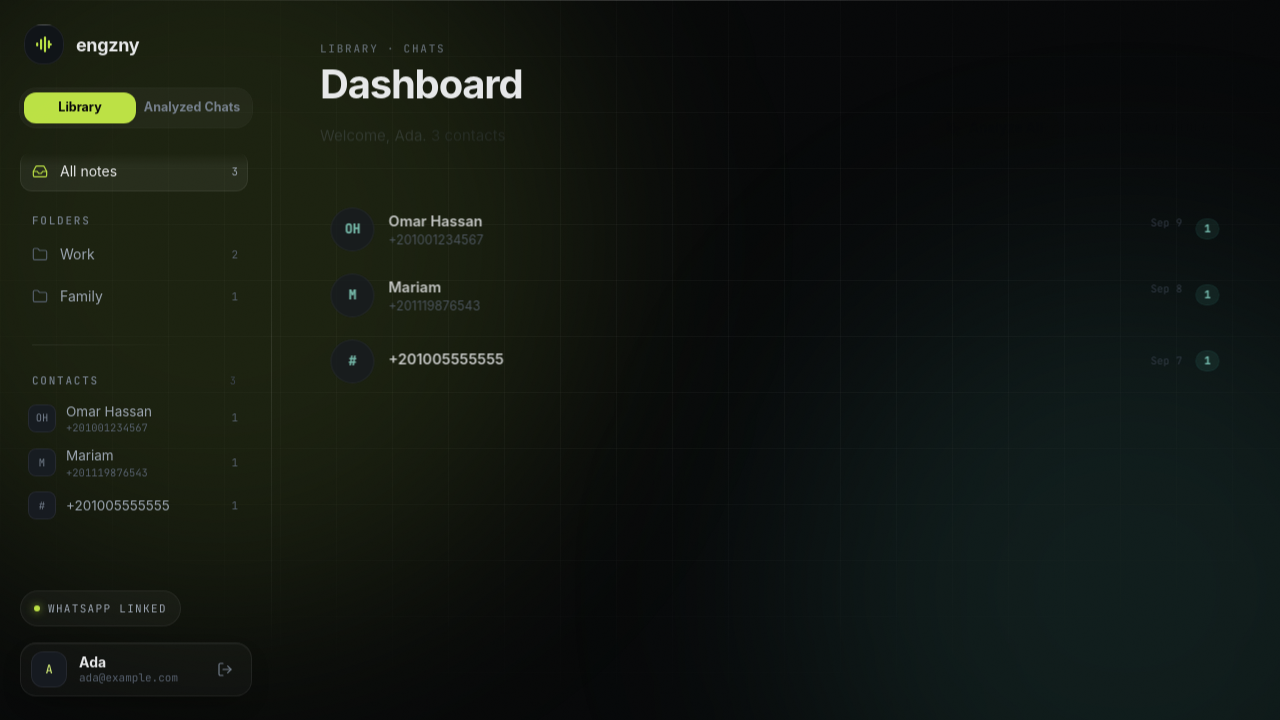
it: Dashboard › filters notes by folder via the URL search param and re-queries the API
Click the button "Family 1" at (134, 296), box top-left (20, 276), bottom-right (248, 316)
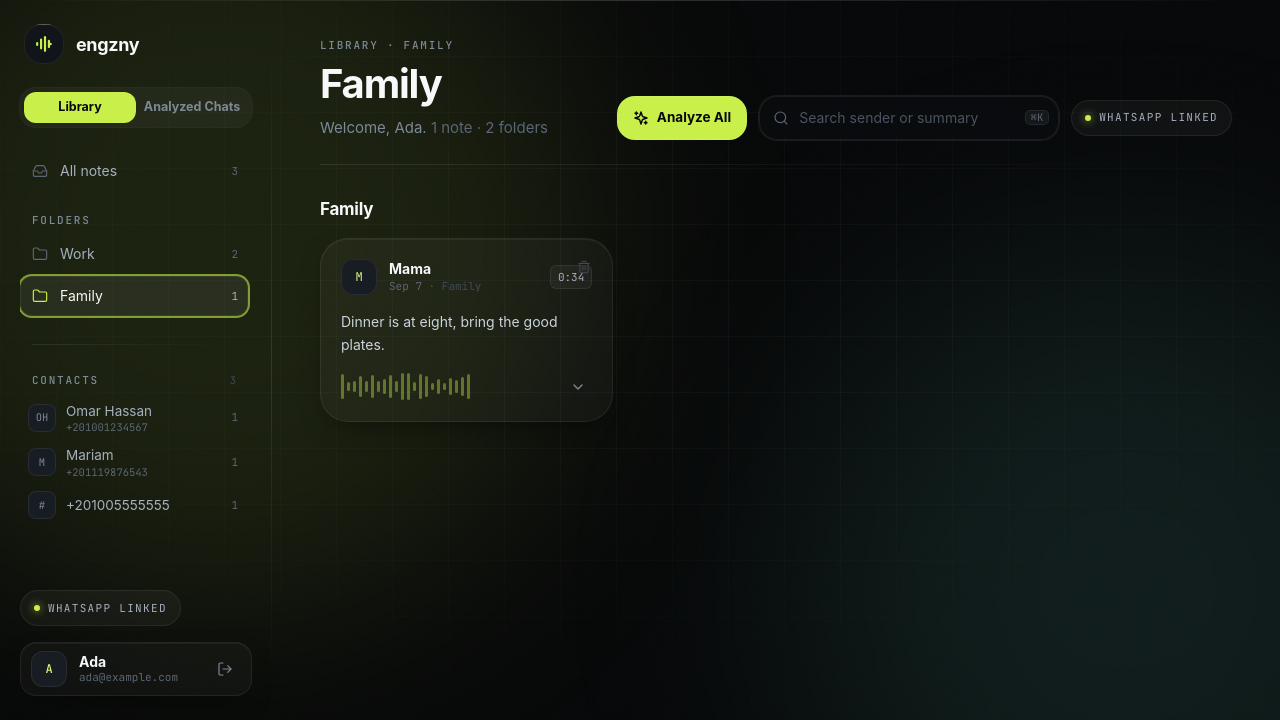
Check: the 2nd heading "Family" is shown, box top-left (320, 196), bottom-right (373, 222)
Check: the element that starts with "Mama" is shown, box top-left (320, 238), bottom-right (613, 422)
